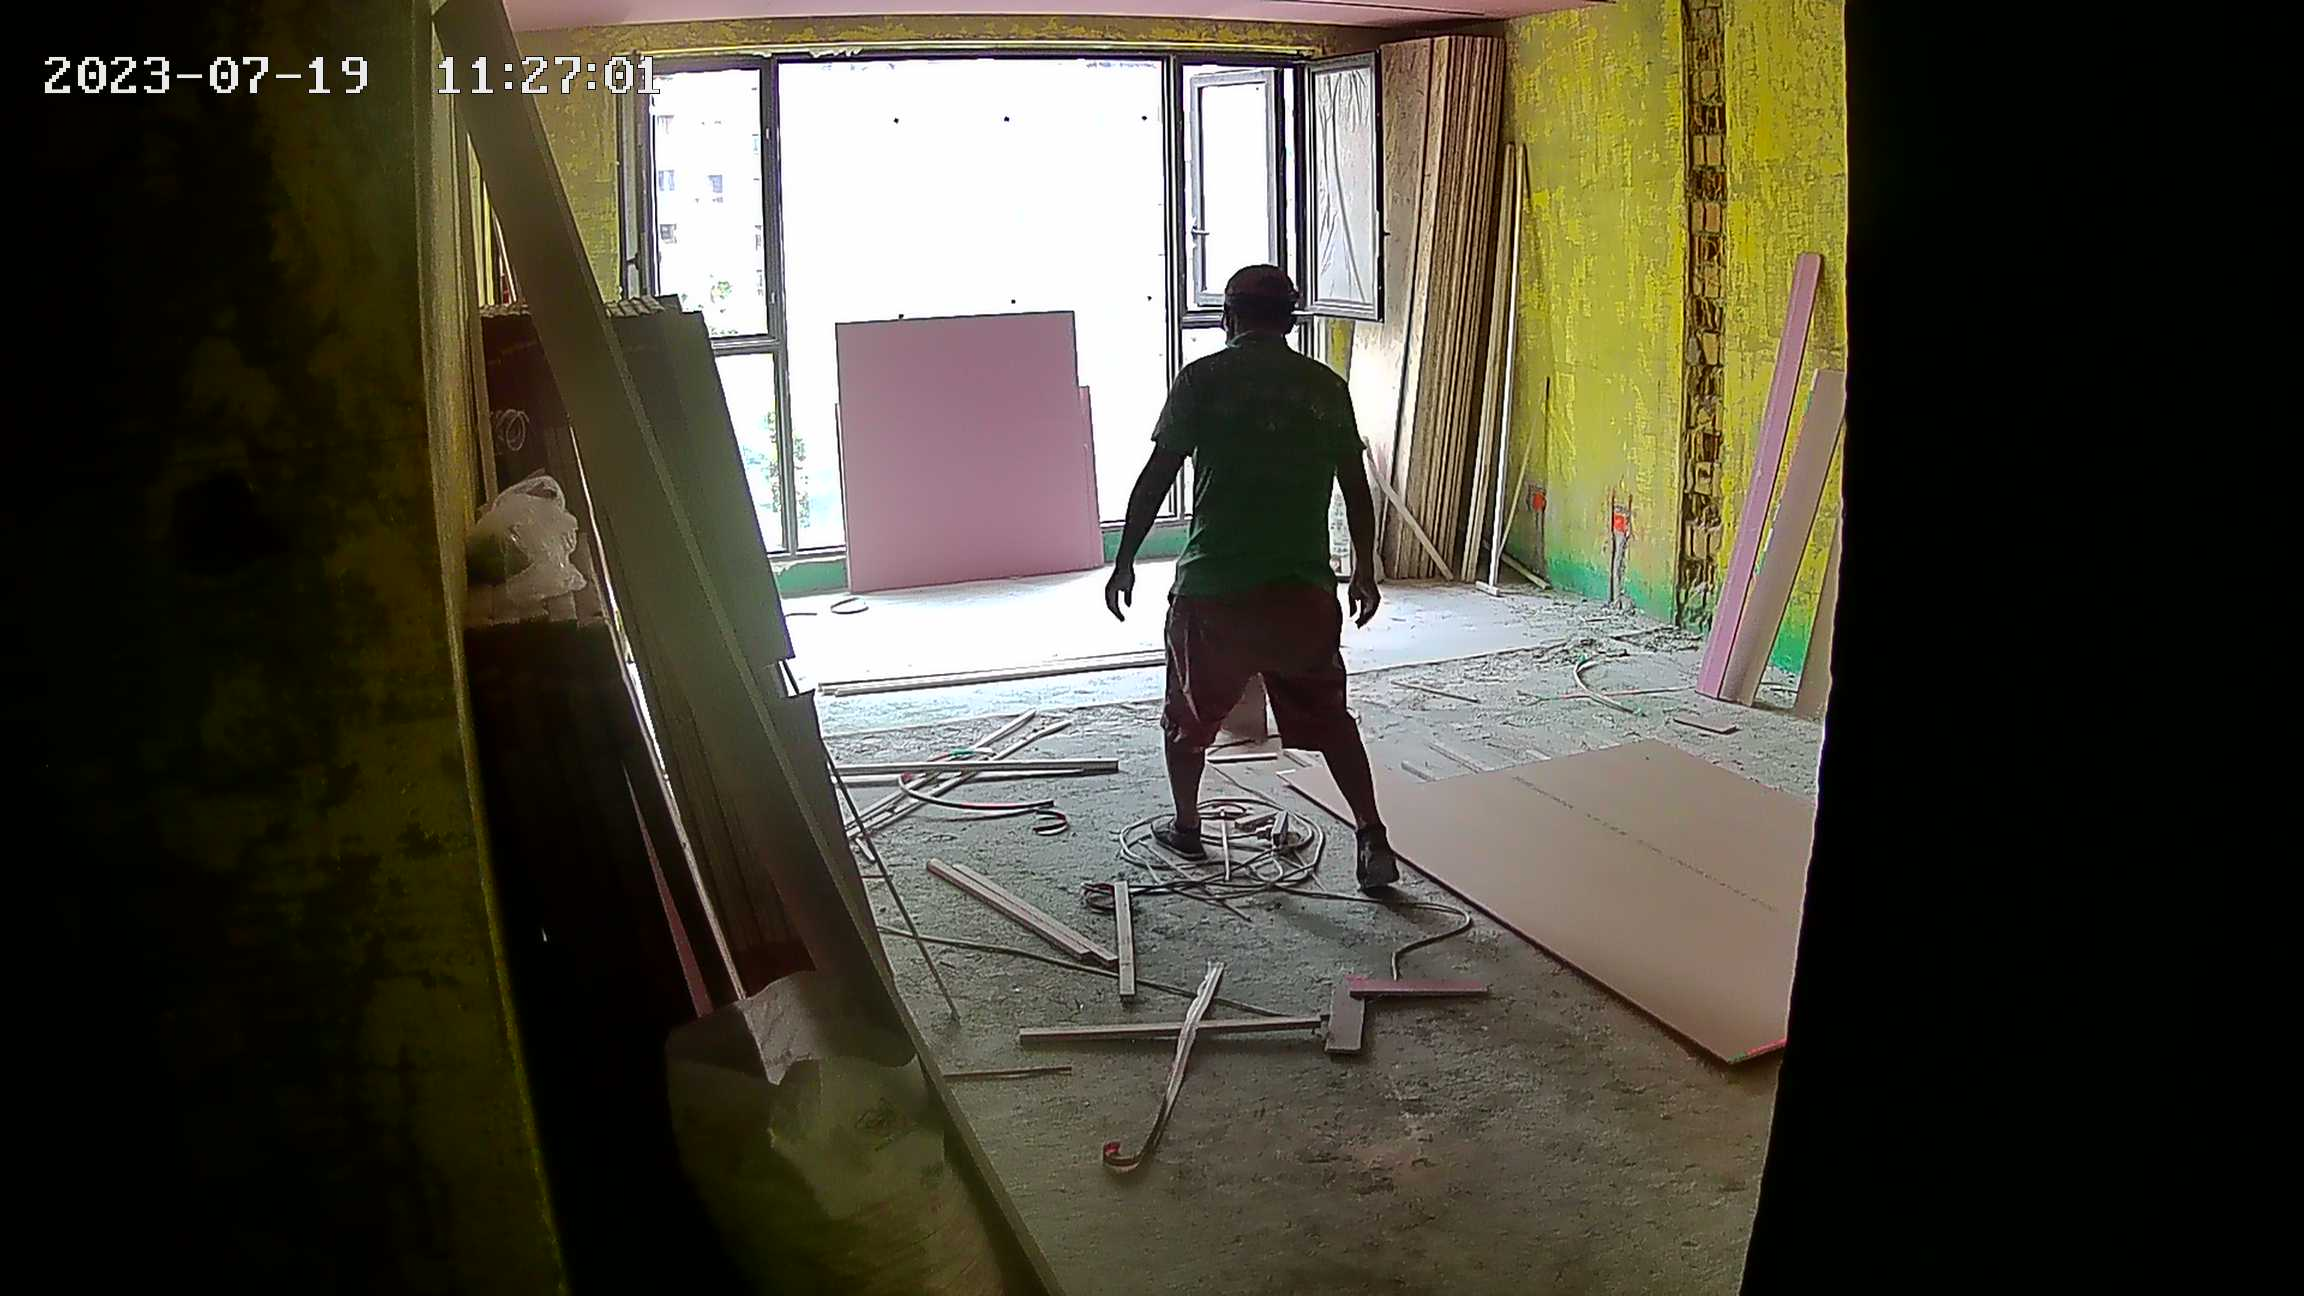people: (1108, 261, 1400, 898)
window: (648, 76, 1330, 554)
